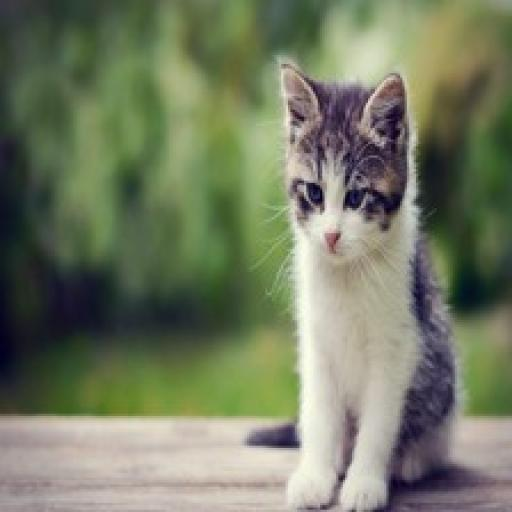cat: (236, 43, 466, 512)
